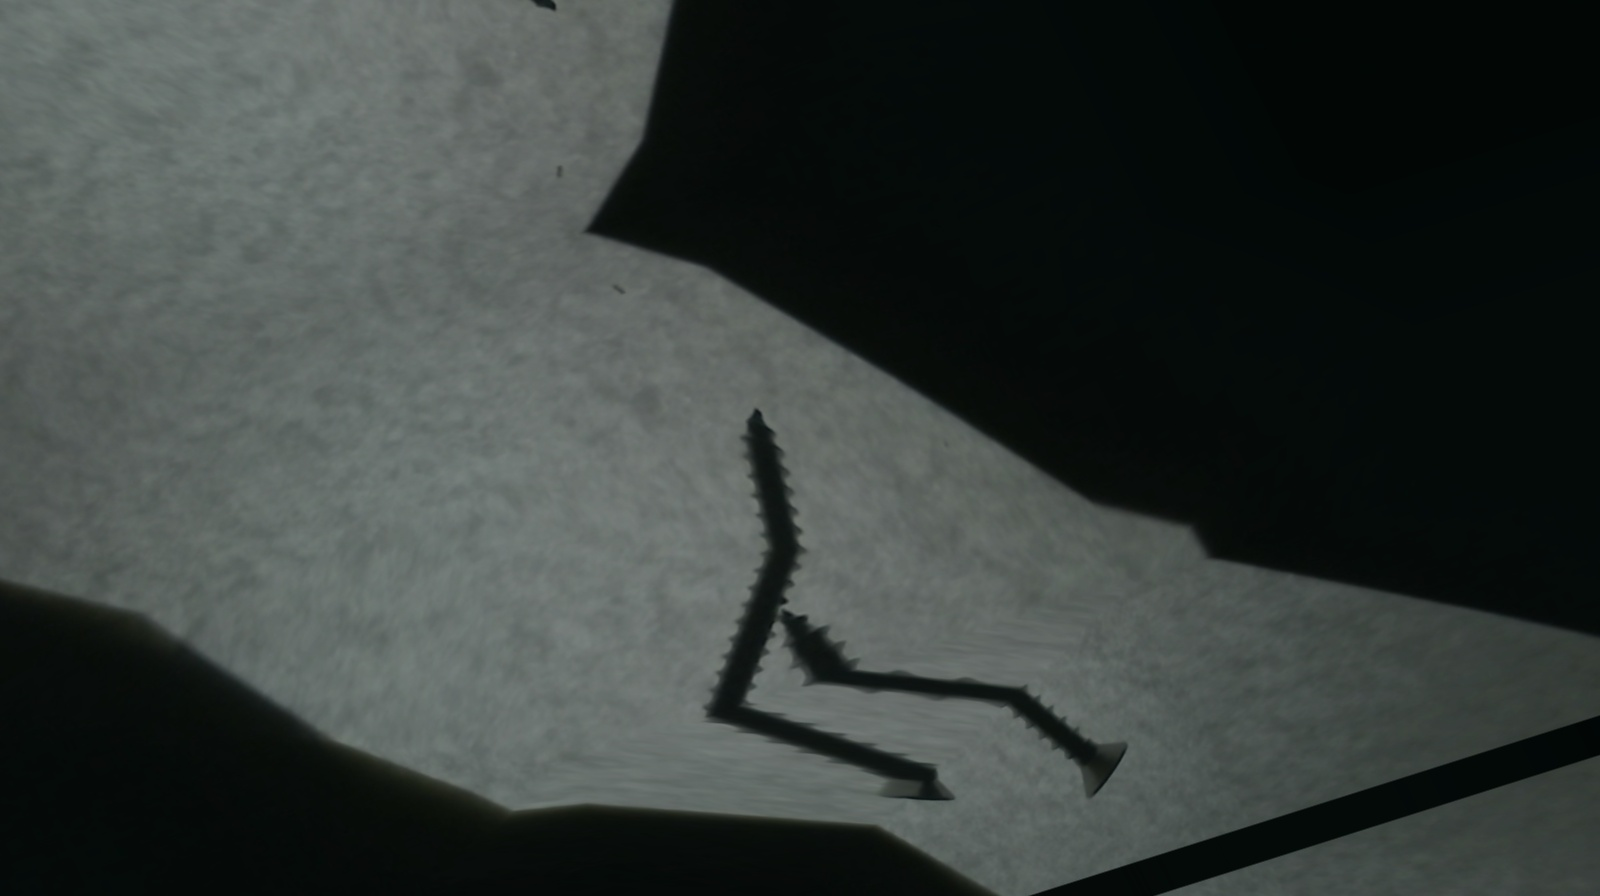S001: (780, 571, 1144, 827)
S002: (595, 403, 1023, 817)
